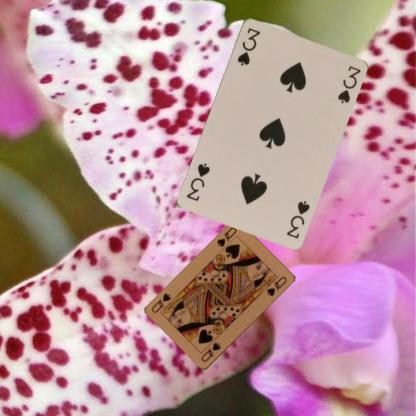3s: (234, 25, 261, 67), (284, 198, 311, 240)
Qs: (214, 224, 238, 249), (199, 340, 222, 363)
